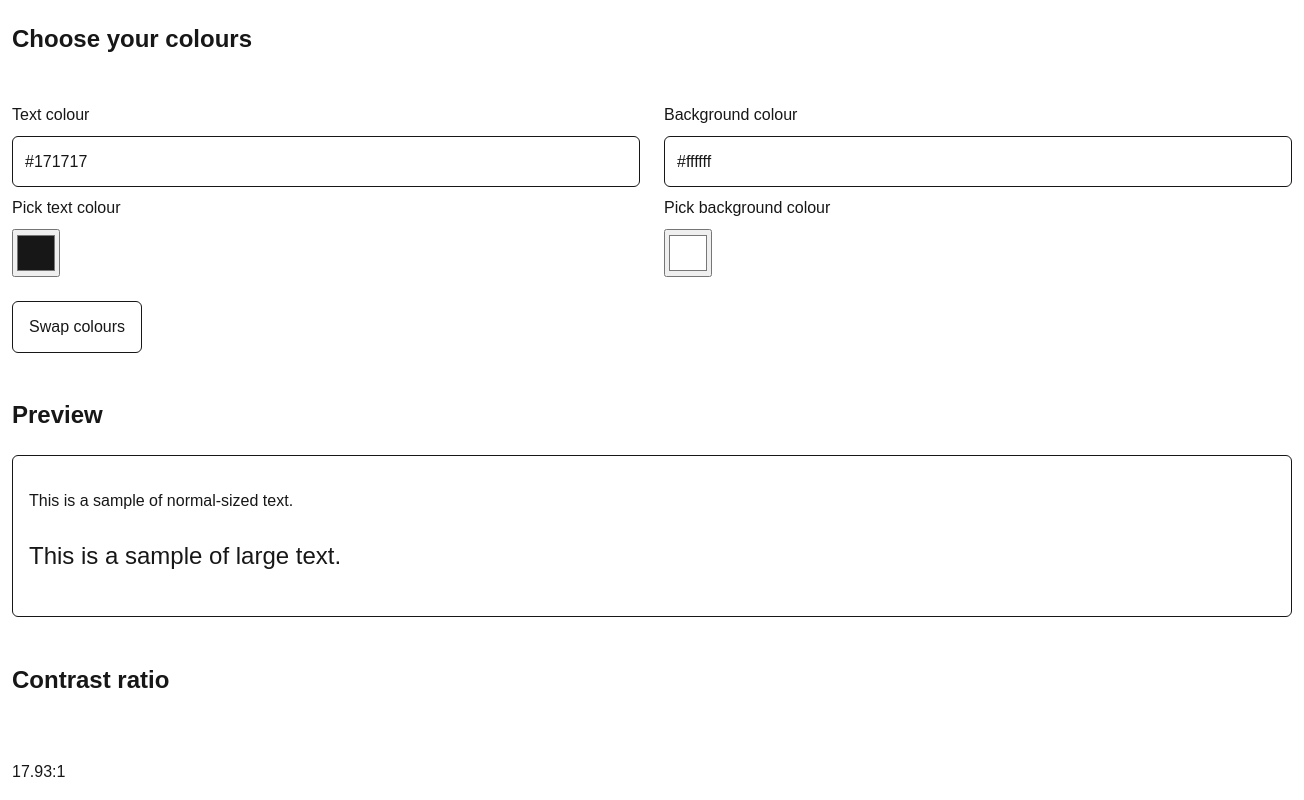
Test case: updates the contrast ratio when the text colour changes
Step 1. Replace the text in the field labelled "Text colour" with "#000000" → (326, 162), box [12,136,640,187]
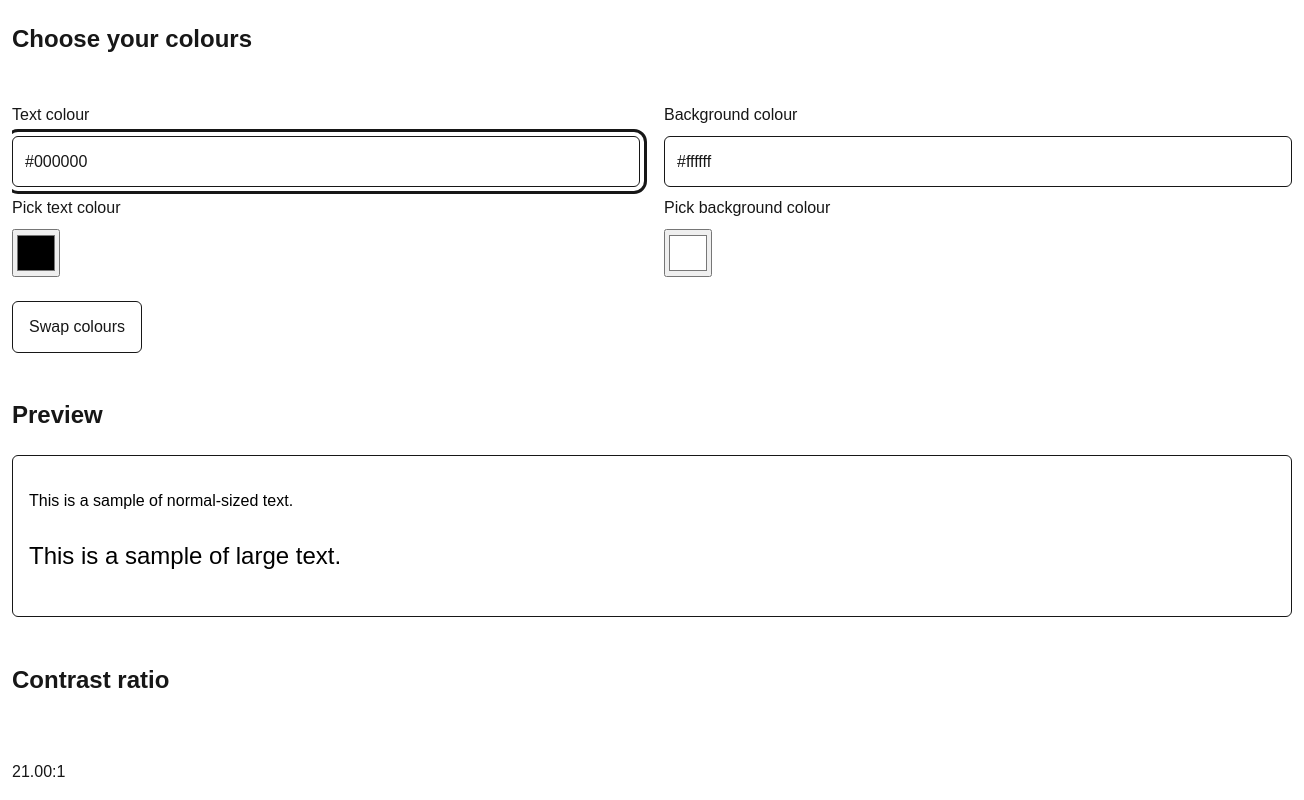
Check: the text "21.00:1" is shown, box [12,763,65,780]
